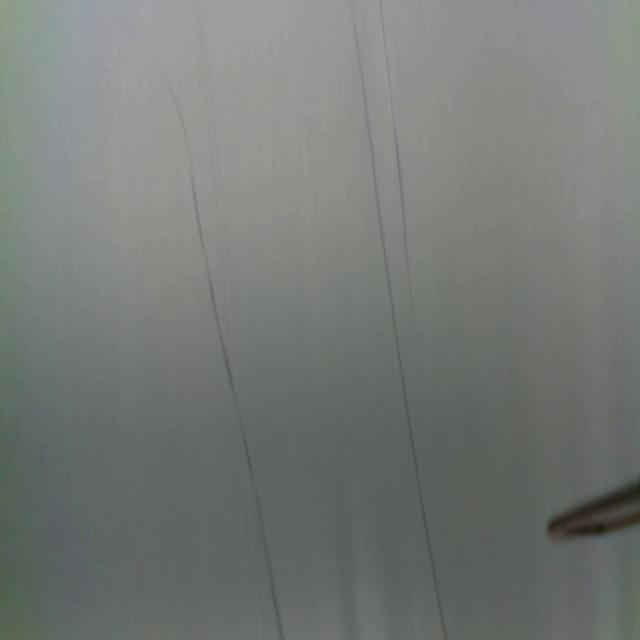crease: (164, 72, 284, 640), (347, 0, 447, 639), (377, 0, 418, 311), (204, 58, 235, 345)
